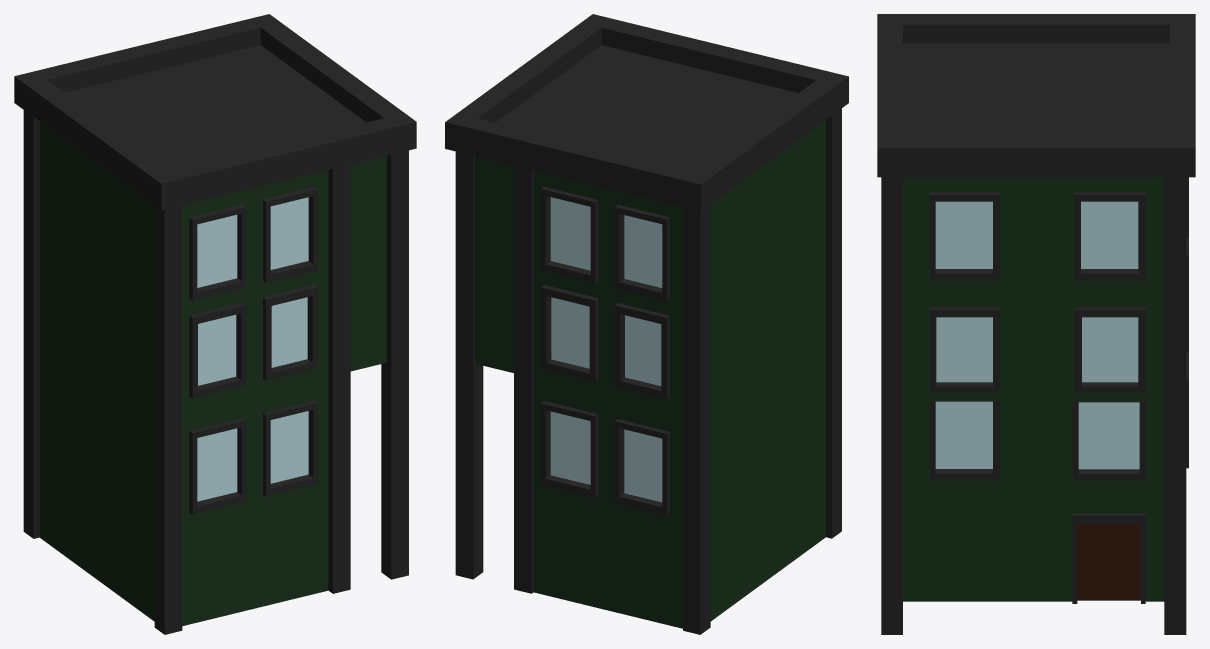
File: house_entrance_U001.fbx
3 views of the same model, side by side, from view 1: azimuth 30°, elevation 25°; view 2: azimuth 150°, elevation 25°; view 3: azimuth 270°, elevation 25° (orthographic). The views are drawn at different scales.
Parts seen in each view (by area): view 1: Base.120; view 2: Base.120; view 3: Base.120.
Part boxes in pixels (x1,y1,x2,y2): Base.120: [14, 14, 416, 634]; Base.120: [445, 14, 848, 634]; Base.120: [877, 14, 1195, 634].
Size of the model in its own units: 875 by 1485 by 875.
